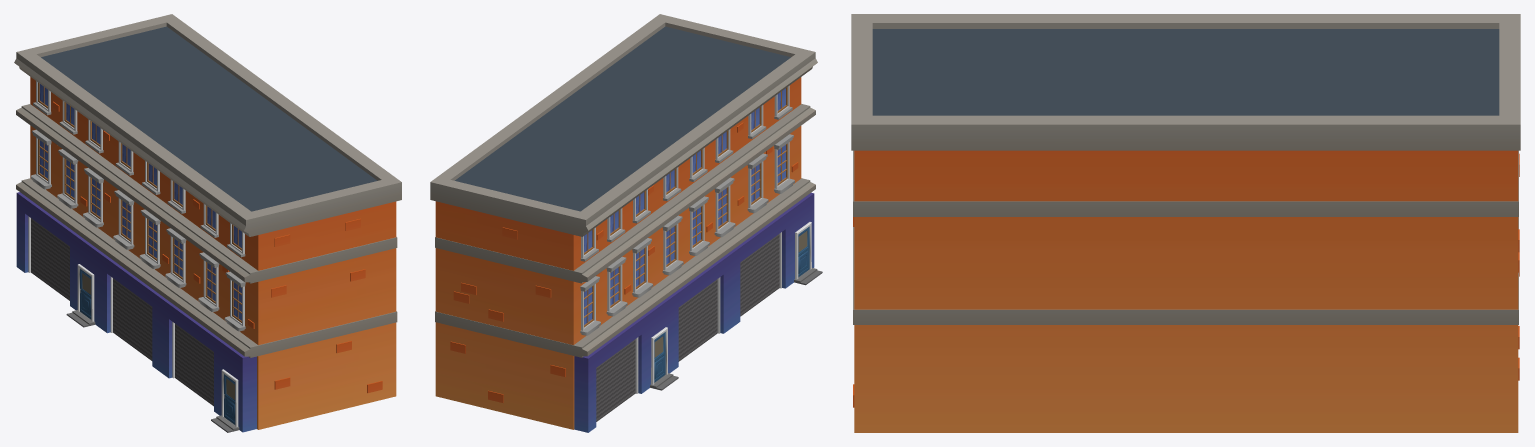
The model's file is Building_20_2_B.fbx.
3 renders of one model, left to right at view 1: azimuth 30°, elevation 25°; view 2: azimuth 150°, elevation 25°; view 3: azimuth 270°, elevation 25°, orthographic. The views are drawn at different scales.
Parts seen in each view (by area): view 1: Building_20_2_B; view 2: Building_20_2_B; view 3: Building_20_2_B.
Boxes of the visible parts, x1,y1,x2,y2 form: Building_20_2_B: (14, 14, 401, 432); Building_20_2_B: (430, 14, 822, 432); Building_20_2_B: (851, 14, 1520, 432).
Size of the model in its own units: 774 by 938 by 1827.
